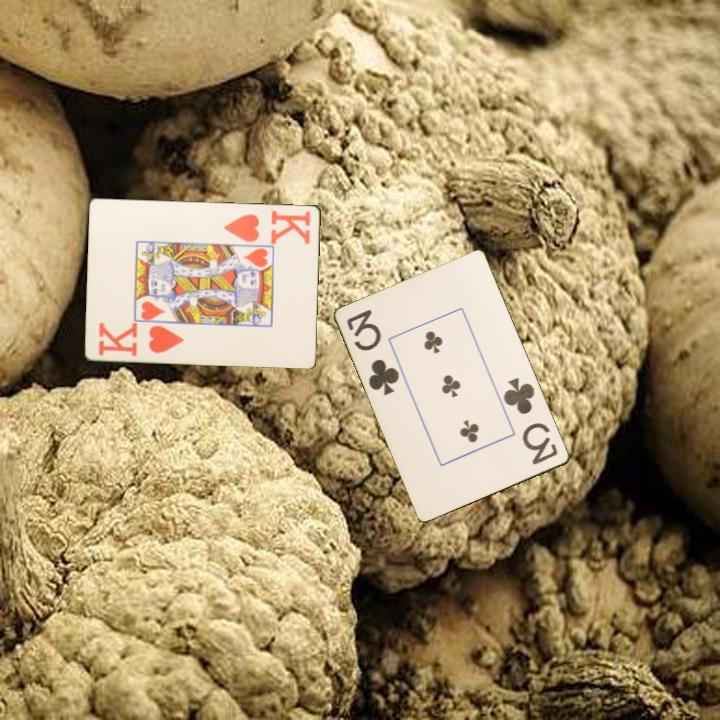3c: (500, 374, 561, 468), (343, 306, 403, 399)
Kh: (220, 206, 314, 246), (95, 320, 187, 359)
